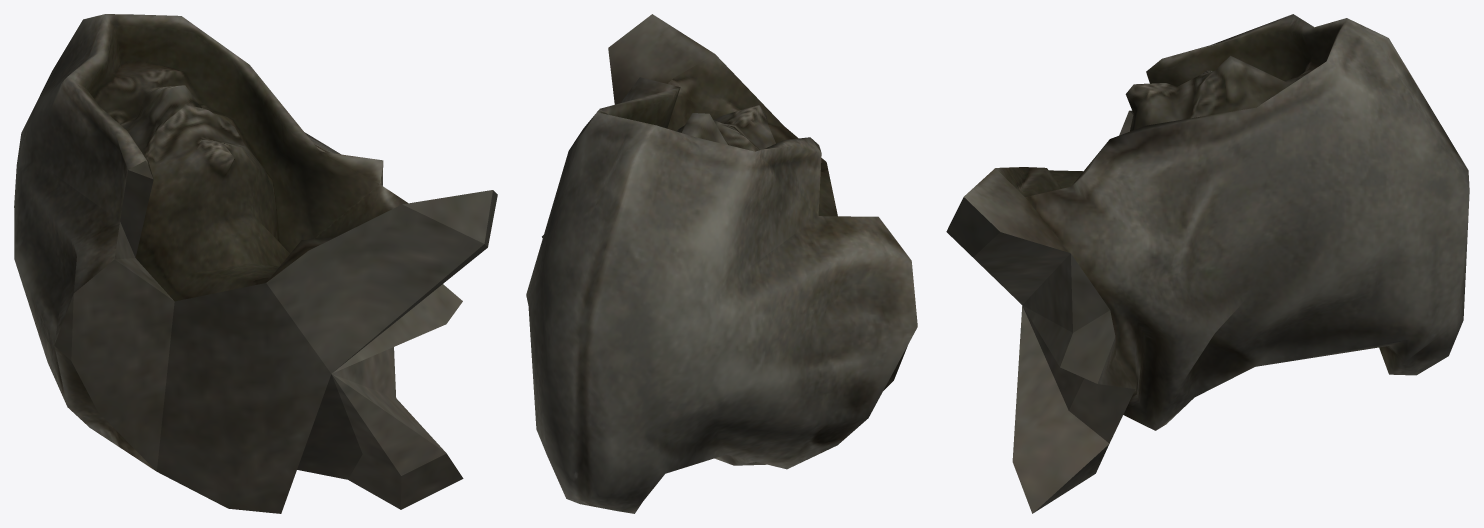
File: TI_Statue_01_D_Part_02.fbx
The picture shows the model from 3 angles, left to right: view 1: azimuth 30°, elevation 25°; view 2: azimuth 150°, elevation 25°; view 3: azimuth 270°, elevation 25°; orthographic projection. The views are drawn at different scales.
Parts seen in each view (by area): view 1: TI_Statue_01_D_Part_02; view 2: TI_Statue_01_D_Part_02; view 3: TI_Statue_01_D_Part_02.
Part boxes in pixels (box(x1,y1,x2,y2)): TI_Statue_01_D_Part_02: box(14, 14, 497, 513); TI_Statue_01_D_Part_02: box(526, 14, 917, 513); TI_Statue_01_D_Part_02: box(946, 14, 1469, 513).
Bounding box in the file's own units: 1.34 × 1.41 × 1.6.
